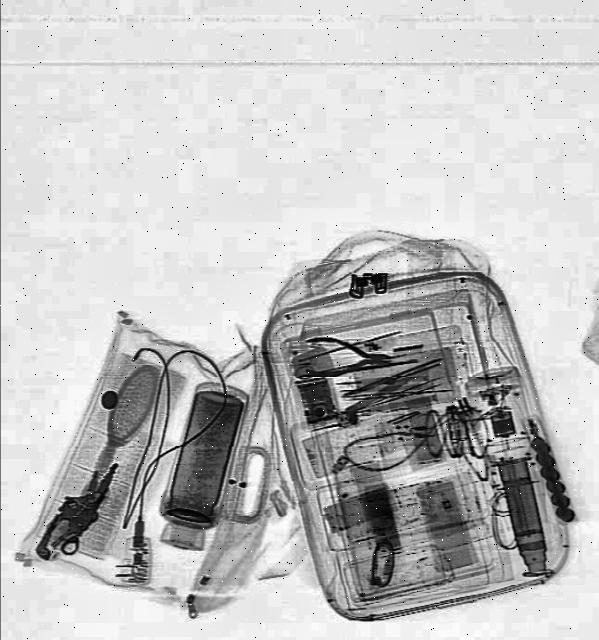Pliers: (303, 335, 391, 381)
